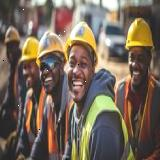Helmet: (64, 21, 99, 68), (36, 31, 68, 66), (125, 17, 154, 50), (20, 38, 40, 62), (5, 26, 20, 44)
Vest: (72, 94, 136, 160), (120, 74, 158, 160), (46, 94, 72, 160), (27, 84, 47, 147), (10, 57, 27, 112)
